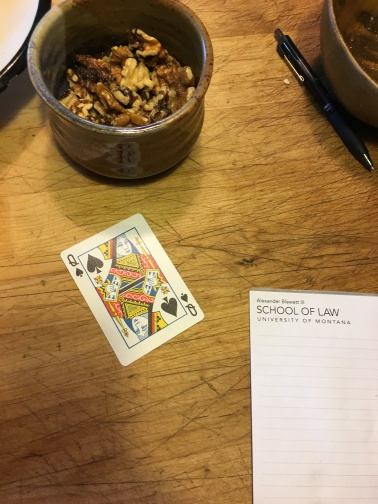queen: (60, 211, 205, 367)
